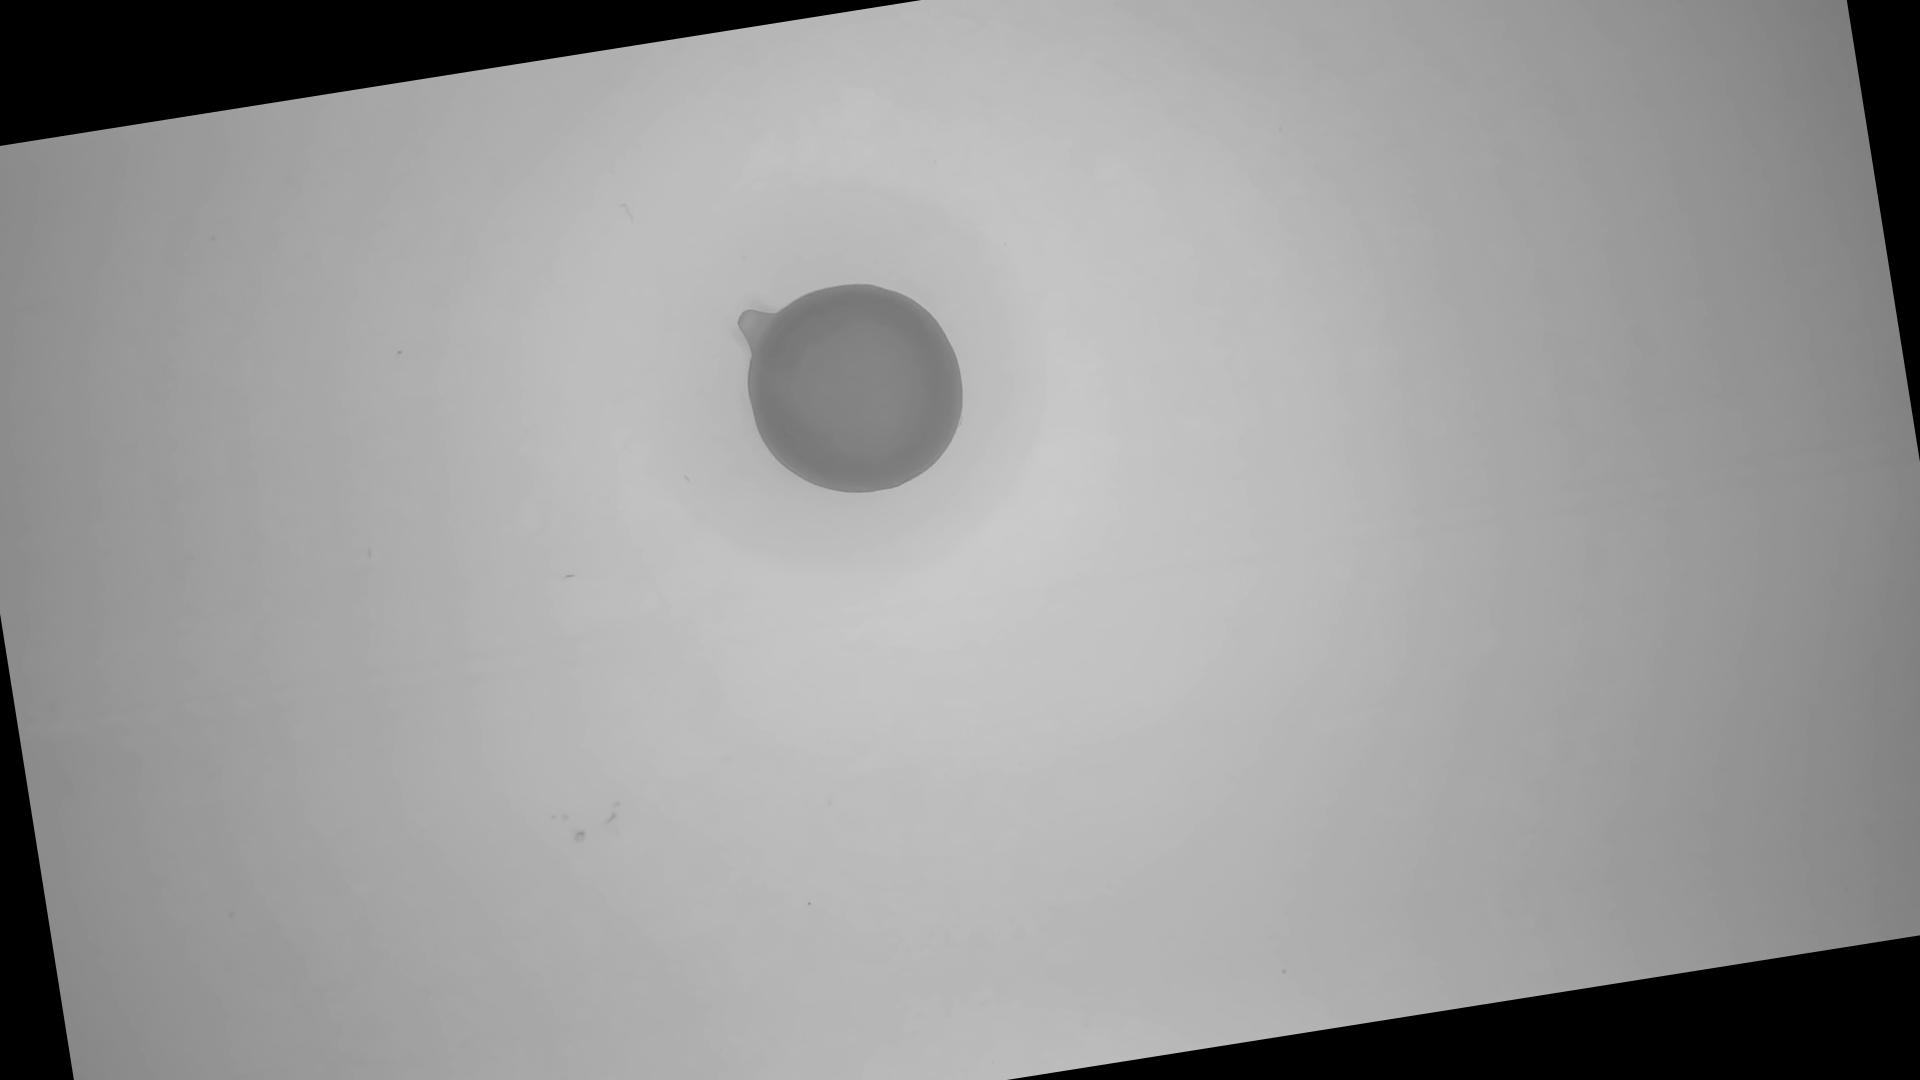abnormal: (732, 265, 981, 512)
